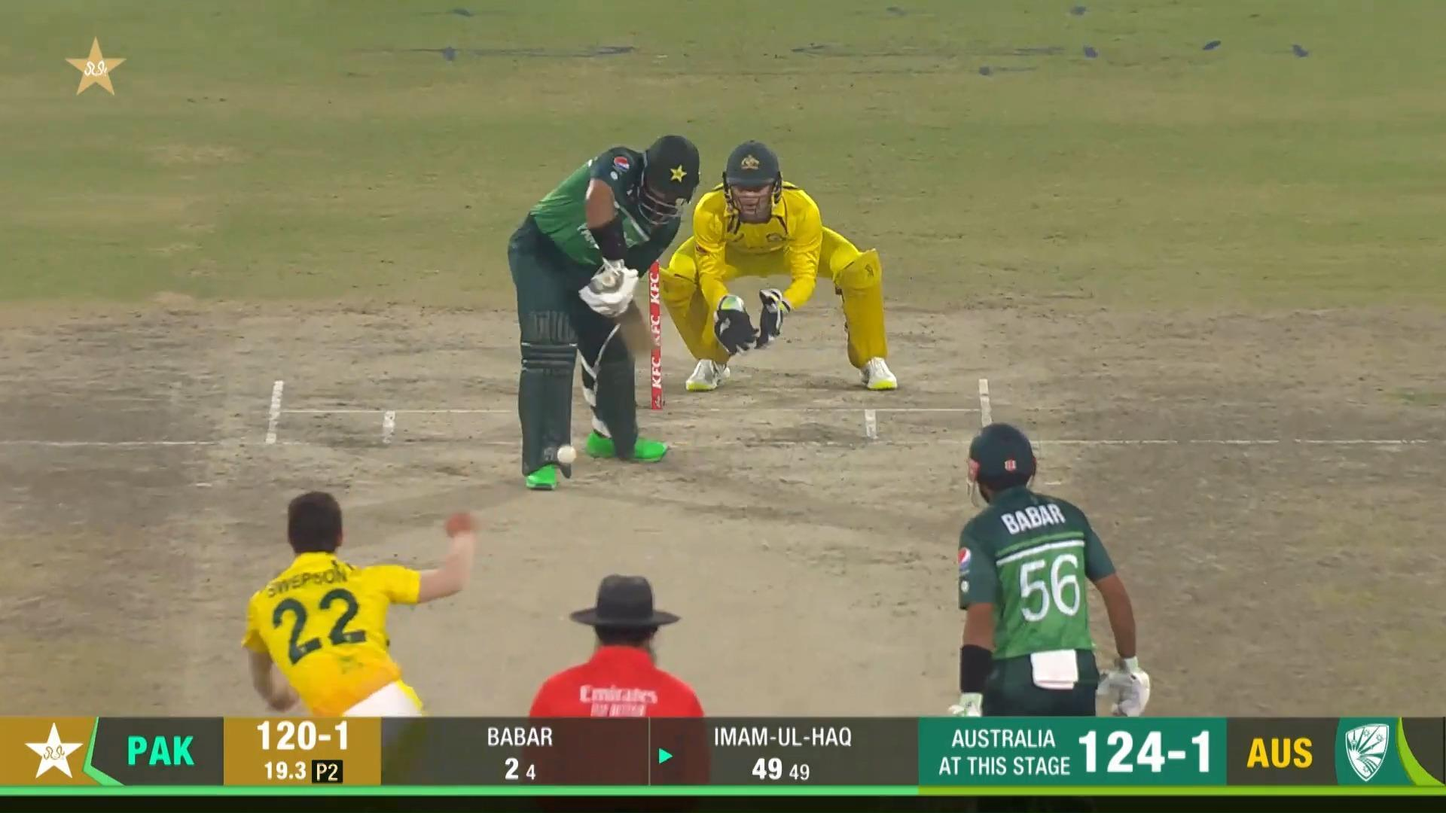BM 1: (505, 134, 701, 488)
BO: (239, 487, 482, 813)
